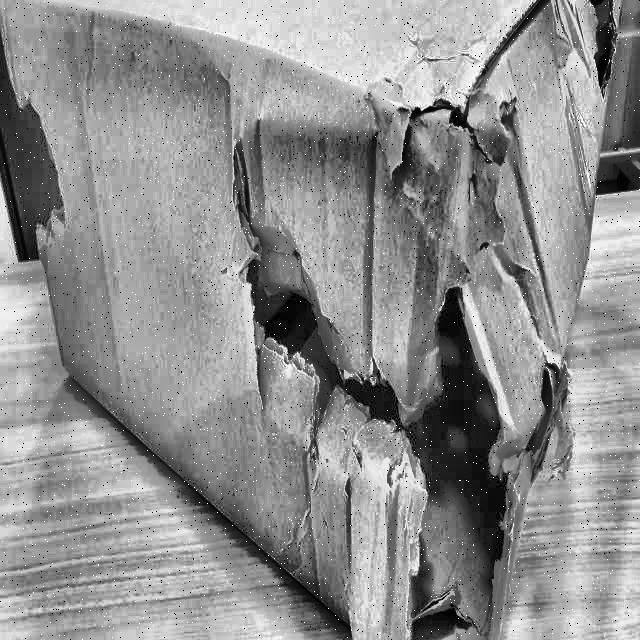box: (0, 0, 631, 639)
hole: (230, 144, 410, 454), (405, 249, 513, 639), (8, 76, 80, 258)
